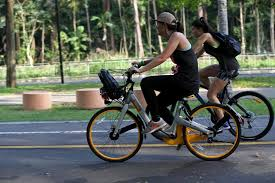bicycle: (79, 59, 244, 172)
